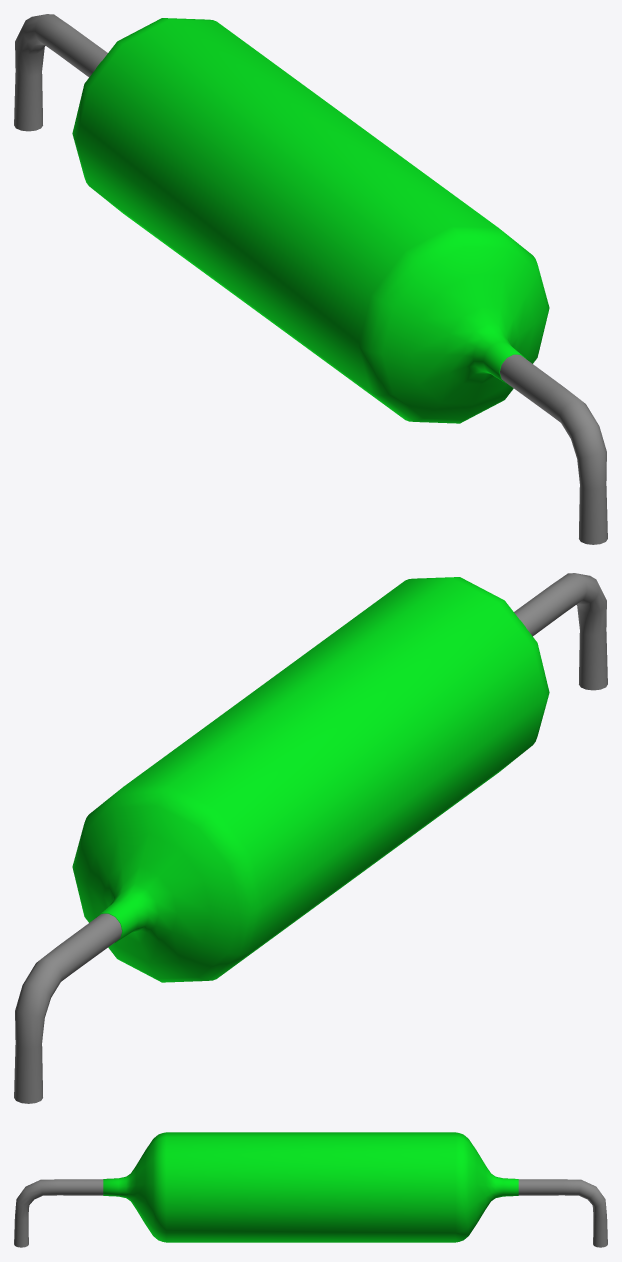
Rendered from rezystor_cylinder.fbx.
3 renders of one model, top to bottom at view 1: azimuth 30°, elevation 25°; view 2: azimuth 150°, elevation 25°; view 3: azimuth 270°, elevation 25°, orthographic. The views are drawn at different scales.
Parts seen in each view (by area): view 1: rezystor_cylinder; view 2: rezystor_cylinder; view 3: rezystor_cylinder.
Boxes of the visible parts, bbox=[...] form: rezystor_cylinder: bbox=[14, 14, 607, 544]; rezystor_cylinder: bbox=[14, 573, 607, 1103]; rezystor_cylinder: bbox=[14, 1132, 607, 1247].
Size of the model in its own units: 200 by 214 by 1074.
